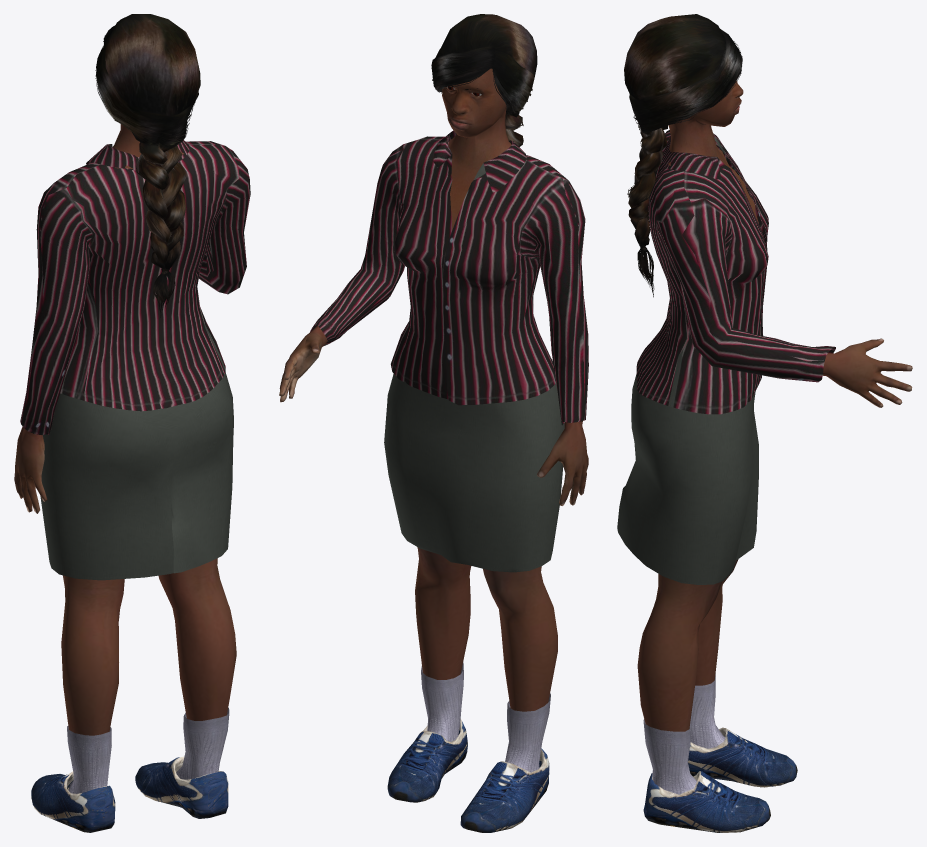
Rendered from relaxed_2.gltf.
3 views of the same model, side by side, from view 1: azimuth 30°, elevation 25°; view 2: azimuth 150°, elevation 25°; view 3: azimuth 270°, elevation 25° (orthographic). The views are drawn at different scales.
Parts seen in each view (by area): view 1: relaxed; view 2: relaxed; view 3: relaxed.
Part boxes in pixels (left/top/right/bottom): relaxed: left=14, top=14, right=250, bottom=832; relaxed: left=279, top=14, right=588, bottom=832; relaxed: left=617, top=14, right=912, bottom=832.
Size of the model in its own units: 0.4876 by 1.62 by 0.5551.
6 materials, 6 textured.
